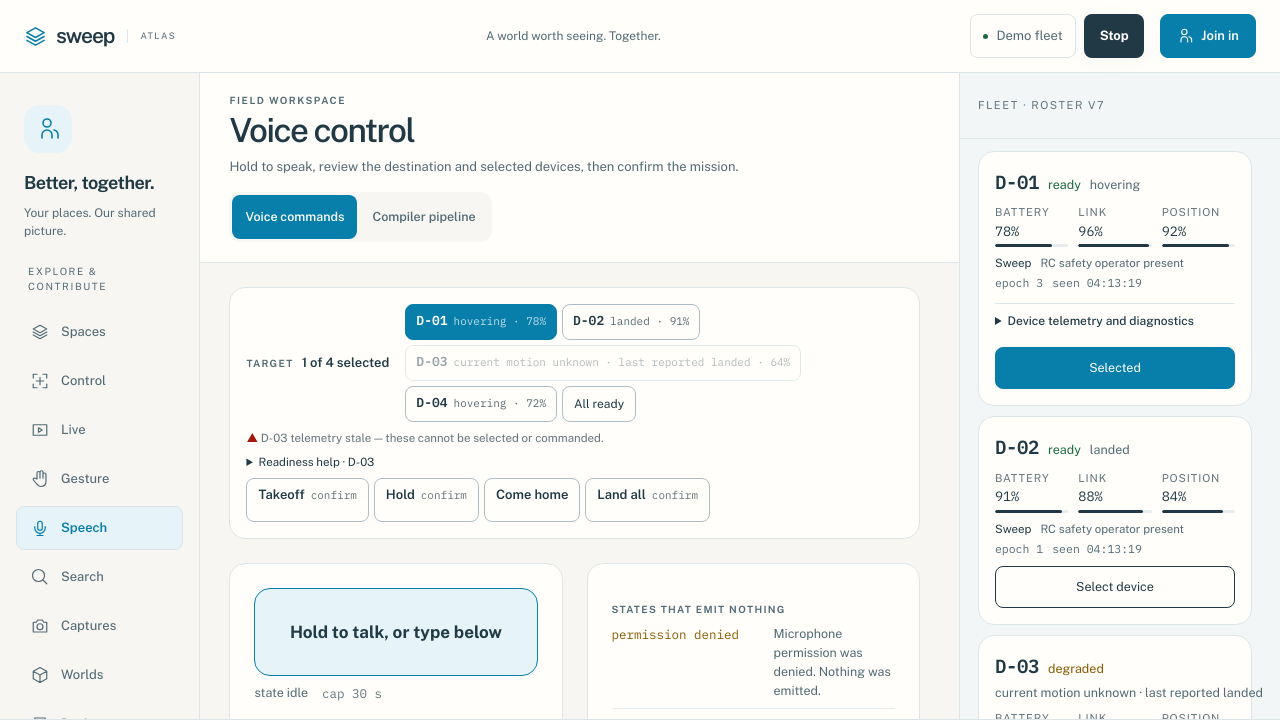
Test: spoken Show raw lidar opens a sensor view without staging any model motion proposal
Press the mouse on the button "Hold to talk, or type below" at (396, 632), box [254,588,538,676]
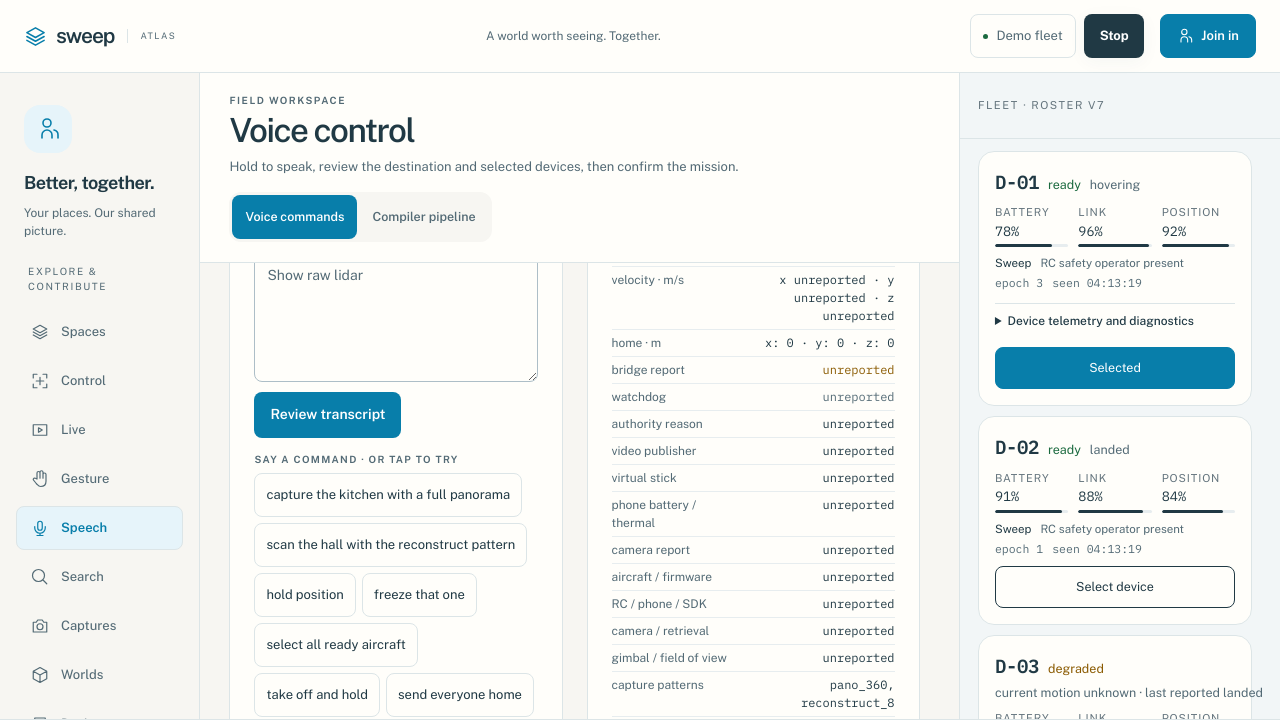
expect the element named "Voice sensor view" is shown: met, box [612,263,895,719]
